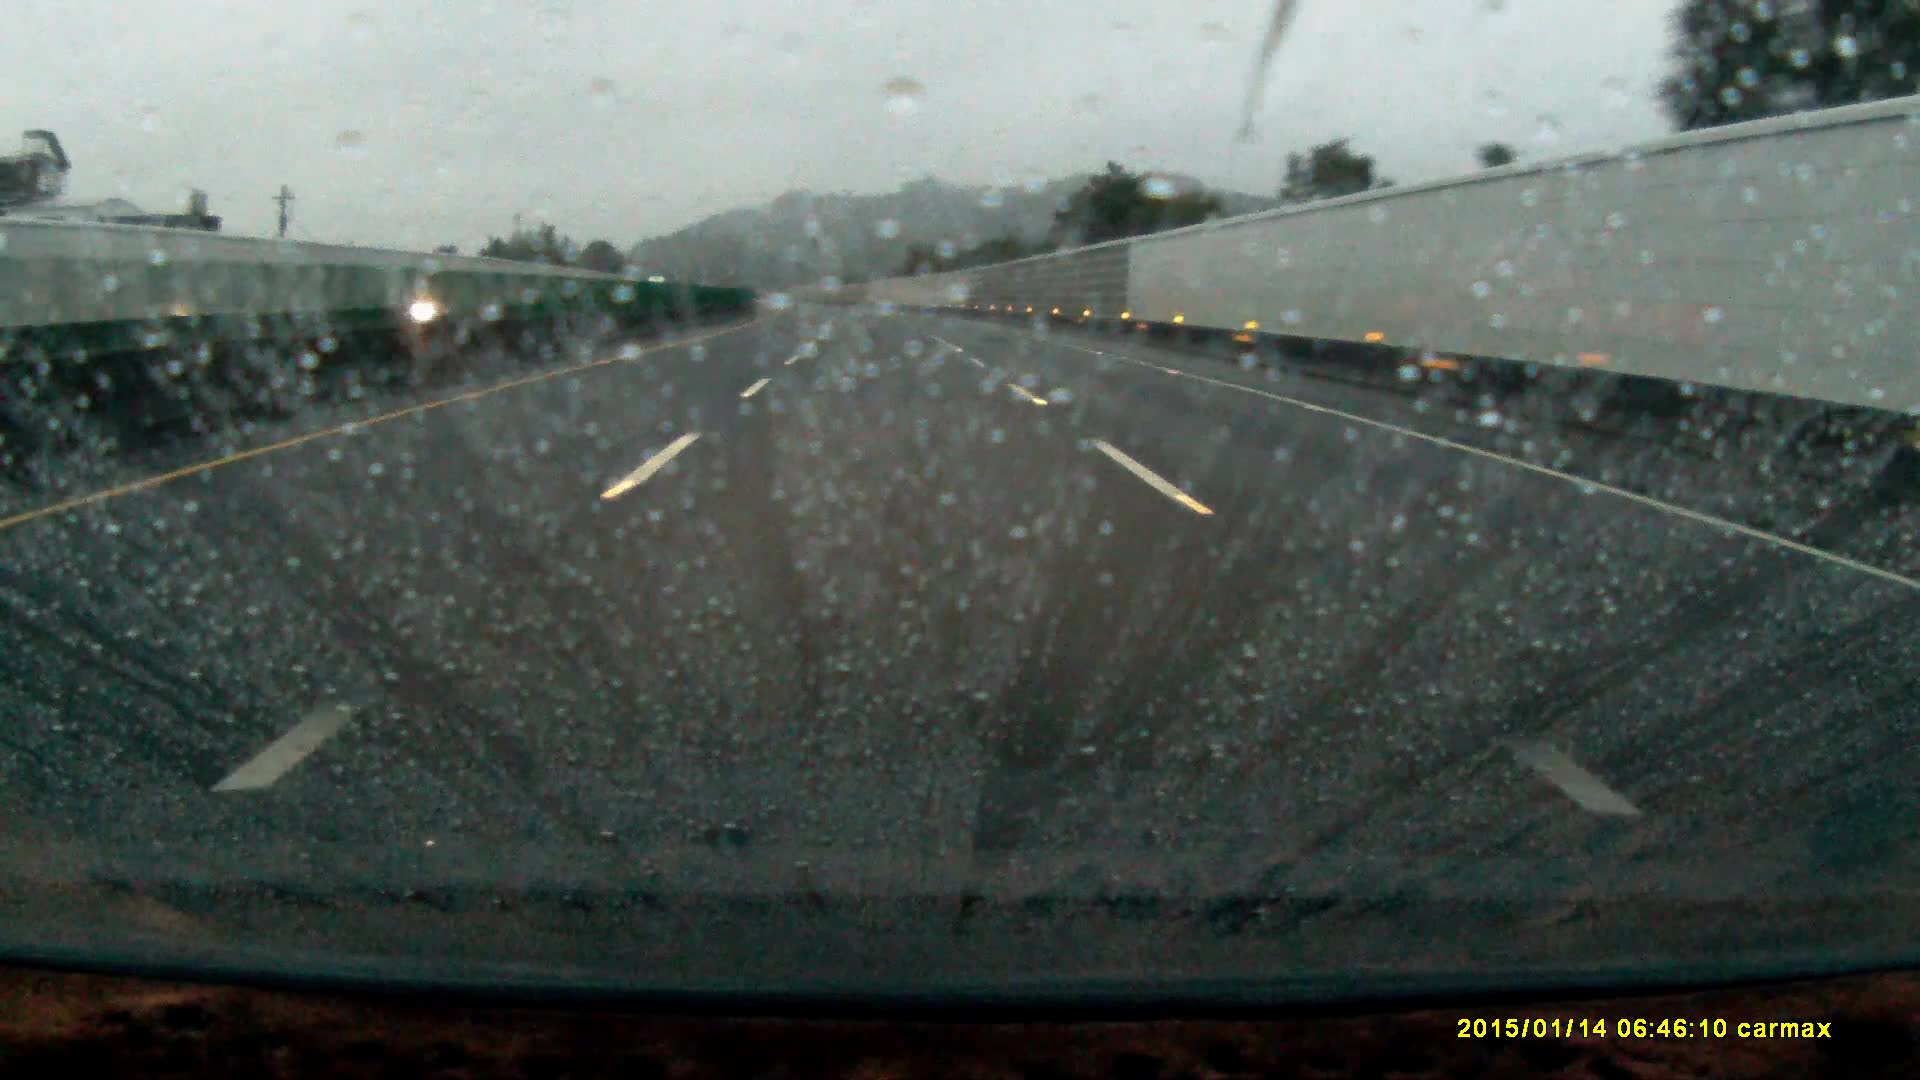vehicle: (418, 293, 476, 320)
